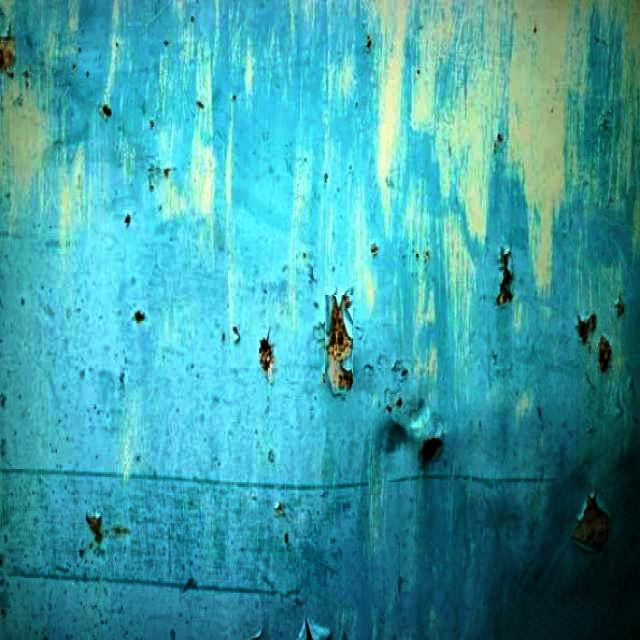Corrosion: (326, 294, 354, 394), (573, 497, 610, 550), (497, 249, 514, 304), (259, 335, 274, 382), (579, 314, 598, 344), (422, 439, 443, 466), (0, 36, 14, 70), (600, 337, 613, 372), (85, 516, 101, 544)
